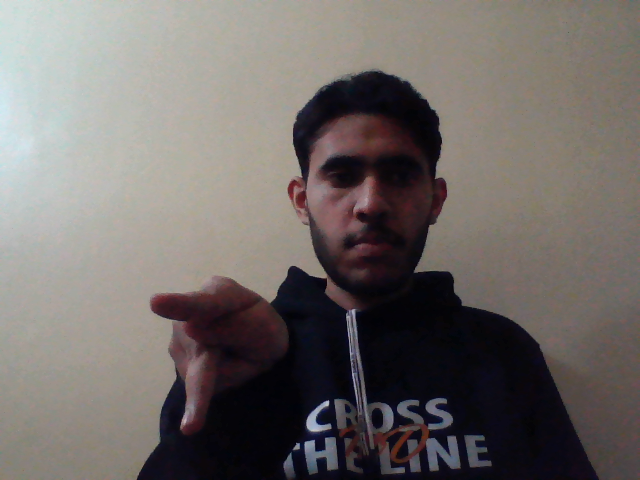P: (144, 269, 297, 439)
